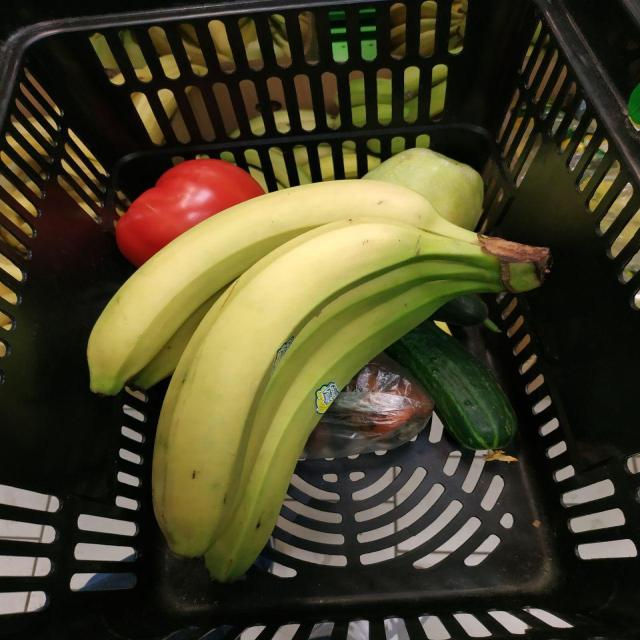apple: (236, 82, 640, 245)
banana: (143, 199, 430, 590), (139, 262, 421, 640), (121, 224, 382, 617), (117, 142, 338, 431), (84, 168, 292, 466)
cucumber: (263, 213, 640, 583), (245, 146, 640, 442)
tomato: (133, 102, 393, 287)
